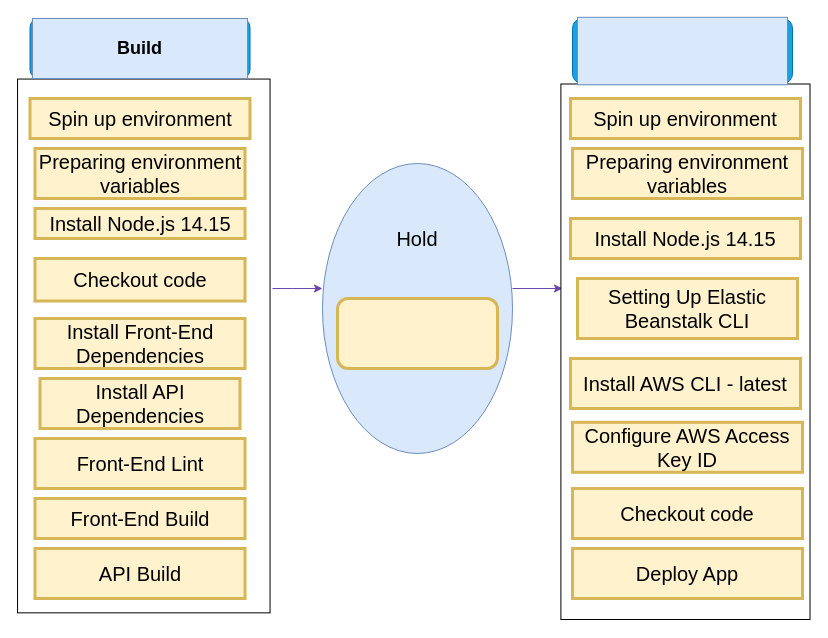
Some shapes in this 828 by 638 pixel diagram are drawn without their labels. The shapes that lost their labels are listed below. From the top down, each one's centre as x and y in pixels, then its label:
(x=682, y=50): Deploy
(x=417, y=333): Approved
